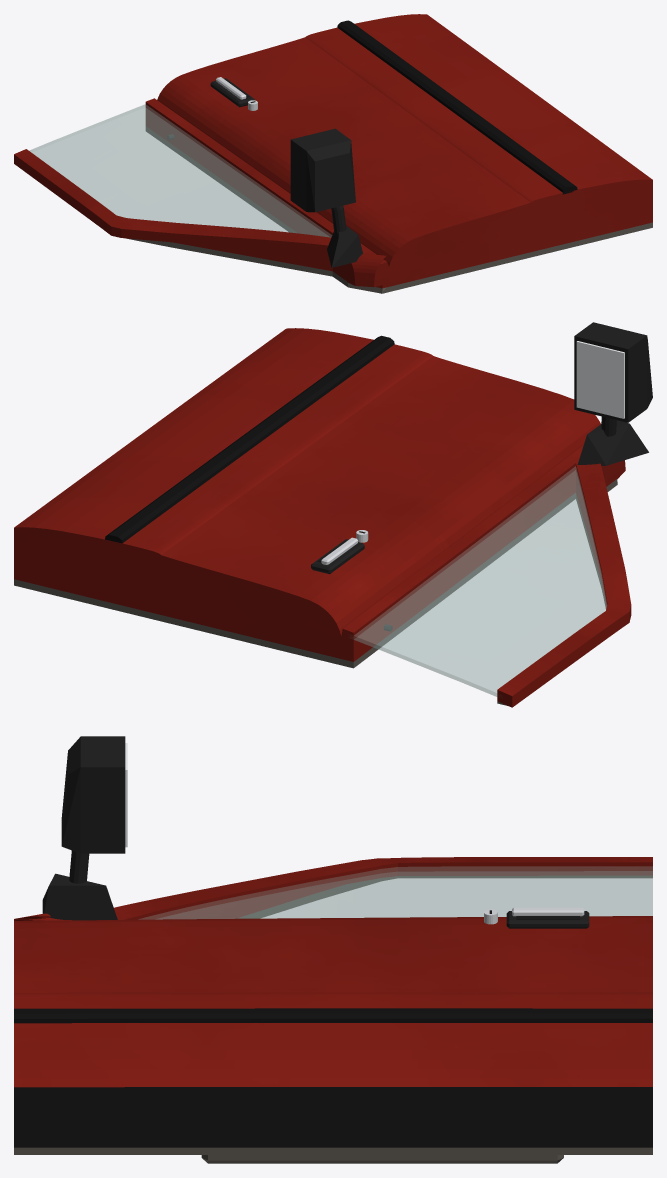
Rendered from porta_dianteira_e_picape.glb.
The picture shows the model from 3 angles, top to bottom: view 1: azimuth 30°, elevation 25°; view 2: azimuth 150°, elevation 25°; view 3: azimuth 270°, elevation 25°; orthographic projection. The views are drawn at different scales.
Parts seen in each view (by area): view 1: porta_dianteira_e_picape_pintura, porta_dianteira_e_picape_vidro, porta_dianteira_e_picape_1_plastico_preto, porta_dianteira_e_picape_borracha, porta_dianteira_e_picape_forro_porta, porta_dianteira_e_picape_plastico_preto; view 2: porta_dianteira_e_picape_pintura, porta_dianteira_e_picape_vidro, porta_dianteira_e_picape_1_plastico_preto, porta_dianteira_e_picape_borracha, porta_dianteira_e_picape_forro_porta, porta_dianteira_e_picape_1_espelho_retrovisor, porta_dianteira_e_picape_plastico_preto; view 3: porta_dianteira_e_picape_pintura, porta_dianteira_e_picape_chassi, porta_dianteira_e_picape_vidro, porta_dianteira_e_picape_1_plastico_preto, porta_dianteira_e_picape_forro_porta, porta_dianteira_e_picape_borracha, porta_dianteira_e_picape_plastico_preto, porta_dianteira_e_picape_cromado.
Boxes of the visible parts, x1,y1,x2,y2 form: porta_dianteira_e_picape_pintura: (14,14,652,288); porta_dianteira_e_picape_vidro: (29,104,331,237); porta_dianteira_e_picape_1_plastico_preto: (290,128,362,267); porta_dianteira_e_picape_borracha: (337,20,577,194); porta_dianteira_e_picape_forro_porta: (126,126,652,293); porta_dianteira_e_picape_plastico_preto: (167,78,254,139); porta_dianteira_e_picape_pintura: (14,328,631,707); porta_dianteira_e_picape_vidro: (350,466,606,696); porta_dianteira_e_picape_1_plastico_preto: (574,322,652,465); porta_dianteira_e_picape_borracha: (105,335,394,543); porta_dianteira_e_picape_forro_porta: (14,479,617,705); porta_dianteira_e_picape_1_espelho_retrovisor: (576,341,624,418); porta_dianteira_e_picape_plastico_preto: (311,539,392,631); porta_dianteira_e_picape_pintura: (14,857,652,1087); porta_dianteira_e_picape_chassi: (14,910,652,1147); porta_dianteira_e_picape_vidro: (139,866,652,919); porta_dianteira_e_picape_1_plastico_preto: (42,736,125,920); porta_dianteira_e_picape_forro_porta: (14,875,652,1163); porta_dianteira_e_picape_borracha: (14,1008,652,1023); porta_dianteira_e_picape_plastico_preto: (506,911,589,928); porta_dianteira_e_picape_cromado: (484,907,584,924).
Bounding box in the file's own units: 1.06 × 0.3945 × 1.
10 materials, 1 textured.
